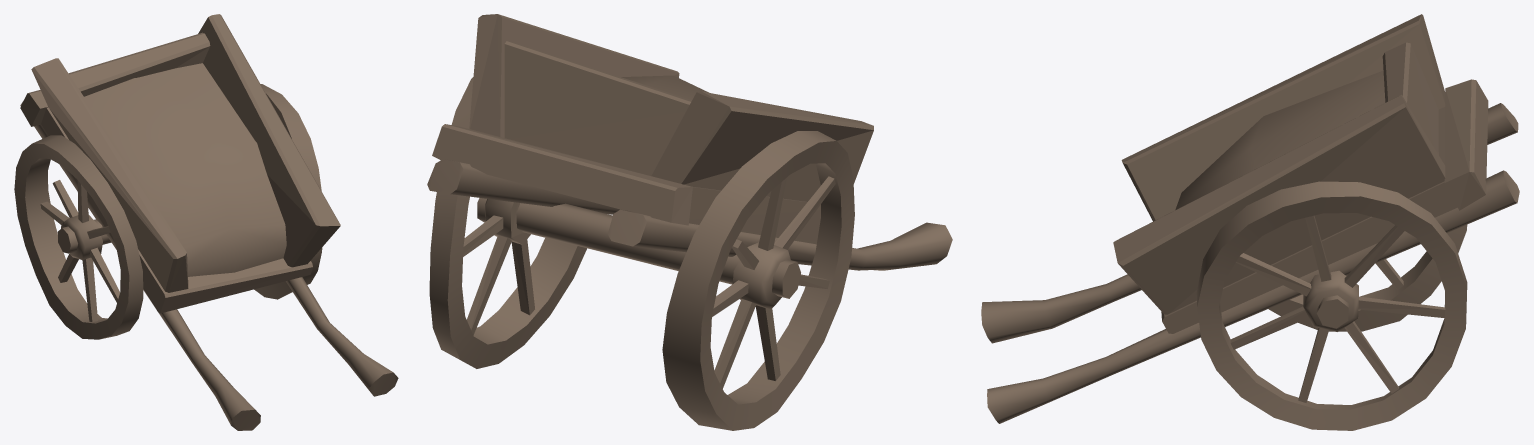
Rendered from Wagon.FBX.
3 views of the same model, side by side, from view 1: azimuth 30°, elevation 25°; view 2: azimuth 150°, elevation 25°; view 3: azimuth 270°, elevation 25° (orthographic). The views are drawn at different scales.
Parts seen in each view (by area): view 1: Wagon; view 2: Wagon; view 3: Wagon.
Part boxes in pixels (x1,y1,x2,y2): Wagon: (14, 14, 398, 430); Wagon: (427, 14, 952, 430); Wagon: (981, 14, 1519, 430).
Size of the model in its own units: 142 by 164 by 247.
